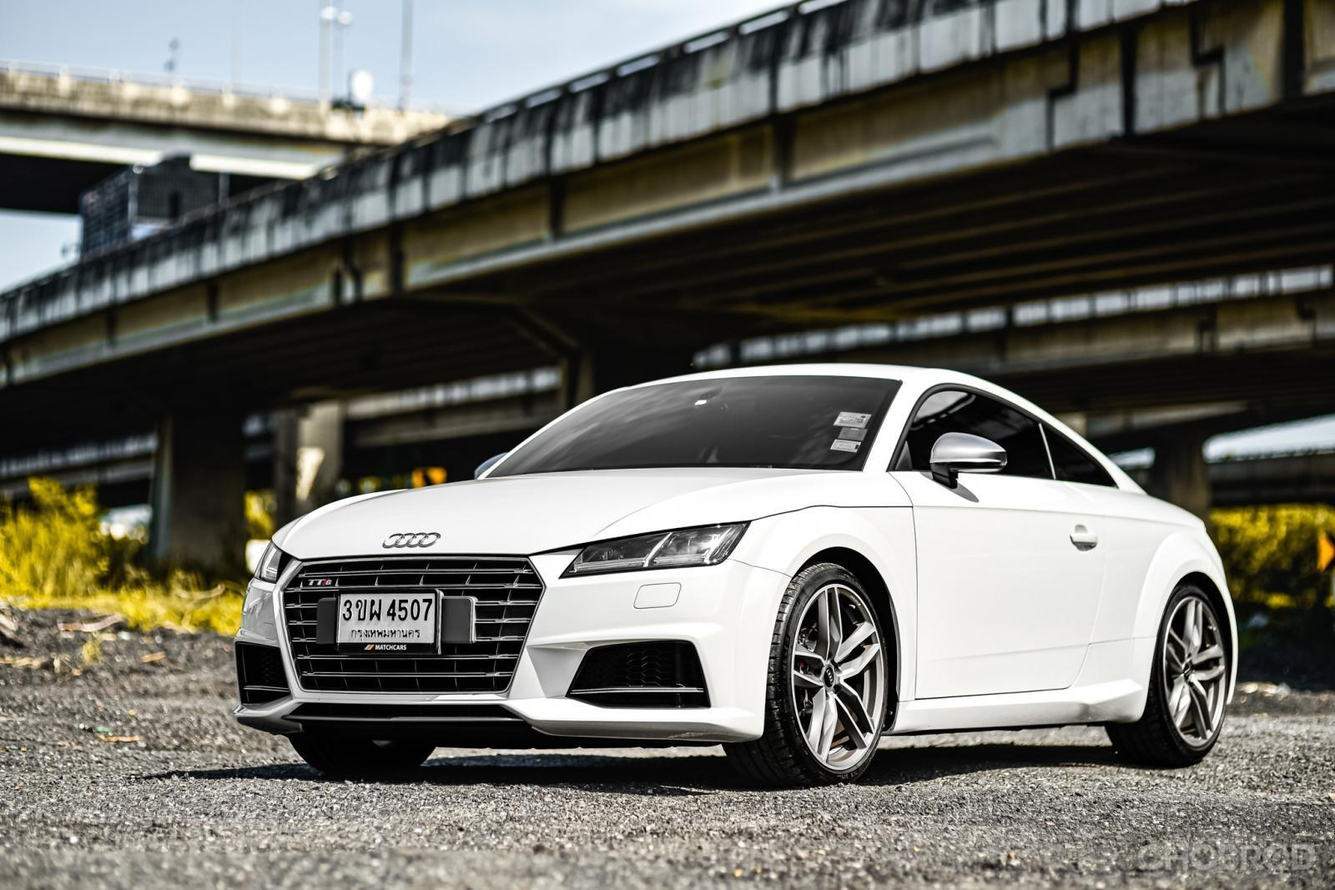license-plate: (336, 587, 442, 660)
